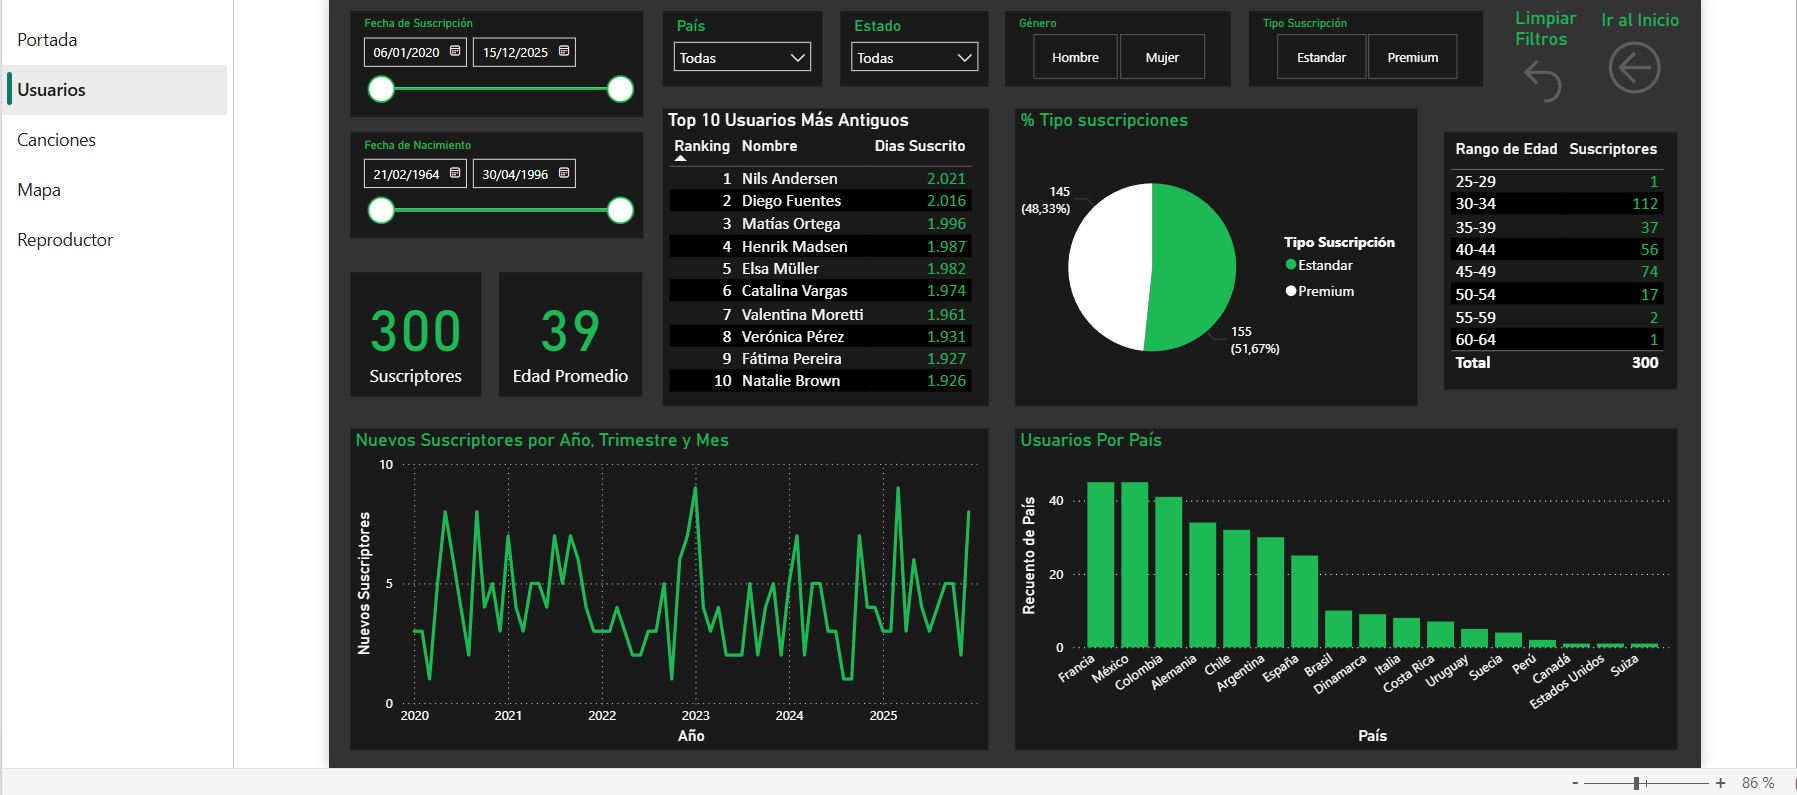

The page's visual inventory and layout, read from the dashboard file:
{"tool":"powerbi","page":{"name":"Usuarios","canvas":[1280,720],"ordinal":1},"visuals":[{"type":"pieChart","title":"% Tipo suscripciones","fields":{"Category":["TB_Usuarios.Tipo Supcripcion"],"Y":["CountNonNull(TB_Usuarios.Tipo Supcripcion)"]},"box":[640,105,375,277.5],"z":0},{"type":"clusteredColumnChart","title":"Usuarios Por País","fields":{"Category":["TB_Usuarios.País"],"Y":["CountNonNull(TB_Usuarios.País)"]},"box":[640,403.8,617.5,300],"z":1000},{"type":"card","title":"Cantidad de usuarios","fields":{"Values":["Medidas TB_Usuarios.Cantidad Suscriptores"]},"box":[20,257.5,122.5,116.2],"z":2000},{"type":"slicer","fields":{"Values":["TB_Usuarios.Género"]},"box":[631.2,13.8,210,70],"z":3000},{"type":"slicer","fields":{"Values":["TB_Usuarios.País"]},"box":[311.2,13.8,148.8,70],"z":4000},{"type":"slicer","fields":{"Values":["TB_Usuarios.Estado"]},"box":[476.2,13.8,138.8,70],"z":5000},{"type":"card","title":"Promedio de edad","fields":{"Values":["Avg(TB_Usuarios.Edad)"]},"box":[158.8,257.5,133.8,116.2],"z":6000},{"type":"actionButton","title":"Limpiar Filtros","box":[1106.2,10,70,95],"z":7000},{"type":"actionButton","title":"Ir al Inicio","box":[1186.2,11.2,80,86.2],"z":8000},{"type":"tableEx","title":"Top 10 Usuarios Más Antiguos","fields":{"Values":["Medidas TB_Usuarios.Ranking Dias Suscrito","TB_Usuarios.Nombre","Sum(TB_Usuarios.Dias Suscrito)"]},"box":[311.2,105,303.8,277.5],"z":9000},{"type":"slicer","fields":{"Values":["Calendario Fecha Suscripción.Date"]},"box":[20,13.8,272.5,98.8],"z":10000},{"type":"slicer","fields":{"Values":["Calendario Fecha Nacimiento.Date"]},"box":[20,127.5,272.5,98.8],"z":11000},{"type":"slicer","fields":{"Values":["TB_Usuarios.Tipo Supcripcion"]},"box":[857.5,13.8,218.8,70],"z":12000},{"type":"lineChart","fields":{"Y":["Medidas TB_Usuarios.Cantidad Suscriptores"],"Category":["Calendario Fecha Suscripción.Date.Variación.Jerarquía de fechas.Año","Calendario Fecha Suscripción.Date.Variación.Jerarquía de fechas.Trimestre","Calendario Fecha Suscripción.Date.Variación.Jerarquía de fechas.Mes","Calendario Fecha Suscripción.Date.Variación.Jerarquía de fechas.Día"]},"box":[20,403.8,595,300],"z":13000},{"type":"tableEx","fields":{"Values":["TB_Usuarios.Rango de Edad","Medidas TB_Usuarios.Cantidad Suscriptores"]},"box":[1040,127.5,217.5,240],"z":14000}]}

Visuals, with their boxes on the page's 1280x720 design canvas (x1, y1, x2, y2). These are canvas units, not pixel positions in the 1797x795 screenshot, which may show the page scaled, cropped or inside an application window:
"% Tipo suscripciones" pieChart: x1=640, y1=105, x2=1015, y2=382
"Usuarios Por País" clusteredColumnChart: x1=640, y1=404, x2=1258, y2=704
"Cantidad de usuarios" card: x1=20, y1=258, x2=142, y2=374
slicer - TB_Usuarios.Género: x1=631, y1=14, x2=841, y2=84
slicer - TB_Usuarios.País: x1=311, y1=14, x2=460, y2=84
slicer - TB_Usuarios.Estado: x1=476, y1=14, x2=615, y2=84
"Promedio de edad" card: x1=159, y1=258, x2=293, y2=374
"Limpiar Filtros" actionButton: x1=1106, y1=10, x2=1176, y2=105
"Ir al Inicio" actionButton: x1=1186, y1=11, x2=1266, y2=97
"Top 10 Usuarios Más Antiguos" tableEx: x1=311, y1=105, x2=615, y2=382
slicer - Calendario Fecha Suscripción.Date: x1=20, y1=14, x2=292, y2=113
slicer - Calendario Fecha Nacimiento.Date: x1=20, y1=128, x2=292, y2=226
slicer - TB_Usuarios.Tipo Supcripcion: x1=858, y1=14, x2=1076, y2=84
lineChart - Medidas TB_Usuarios.Cantidad Suscriptores x Calendario Fecha Suscripción.Date.Variación.Jerarquía de fechas.Año: x1=20, y1=404, x2=615, y2=704
tableEx - TB_Usuarios.Rango de Edad x Medidas TB_Usuarios.Cantidad Suscriptores: x1=1040, y1=128, x2=1258, y2=368
